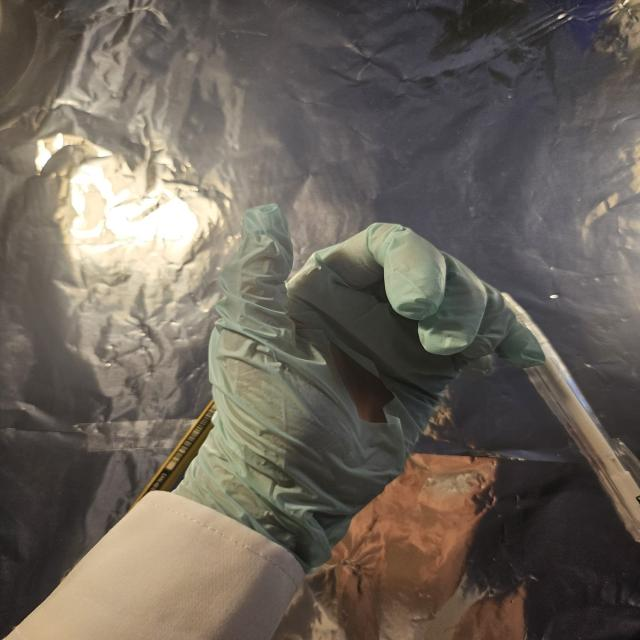gloves_damaged: (180, 197, 546, 561)
